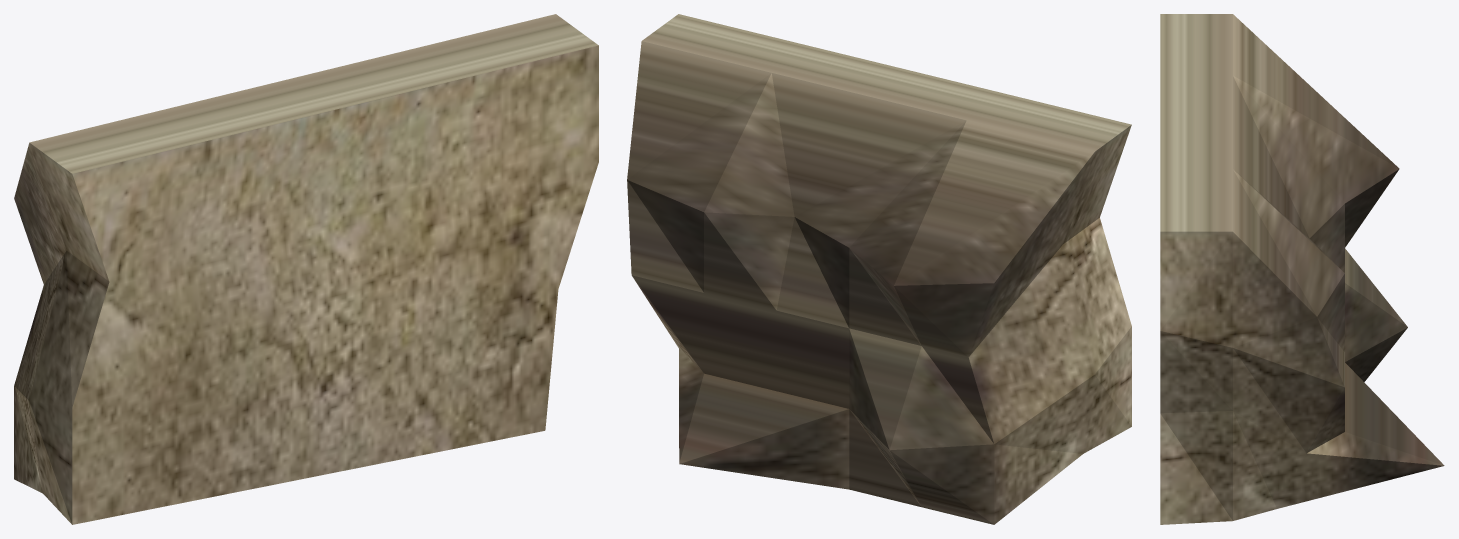
3 renders of one model, left to right at view 1: azimuth 30°, elevation 25°; view 2: azimuth 150°, elevation 25°; view 3: azimuth 270°, elevation 25°, orthographic. The views are drawn at different scales.
Parts seen in each view (by area): view 1: model_Object42; view 2: model_Object42; view 3: model_Object42.
Part boxes in pixels (x1=…): model_Object42: x1=14, y1=14, x2=598, y2=524; model_Object42: x1=627, y1=14, x2=1131, y2=524; model_Object42: x1=1160, y1=14, x2=1444, y2=524.
Size of the model in its own units: 4.73 by 3.41 by 2.61.
1 material, 1 textured.
